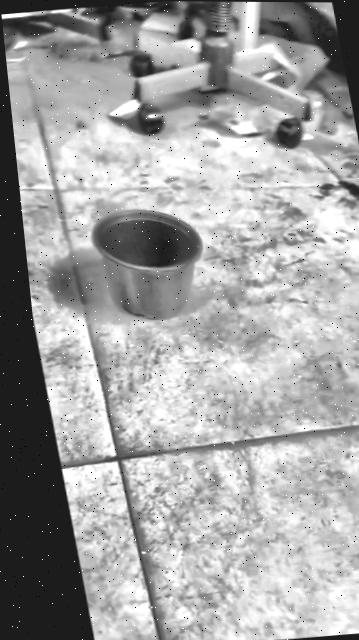pot: (87, 204, 215, 323)
